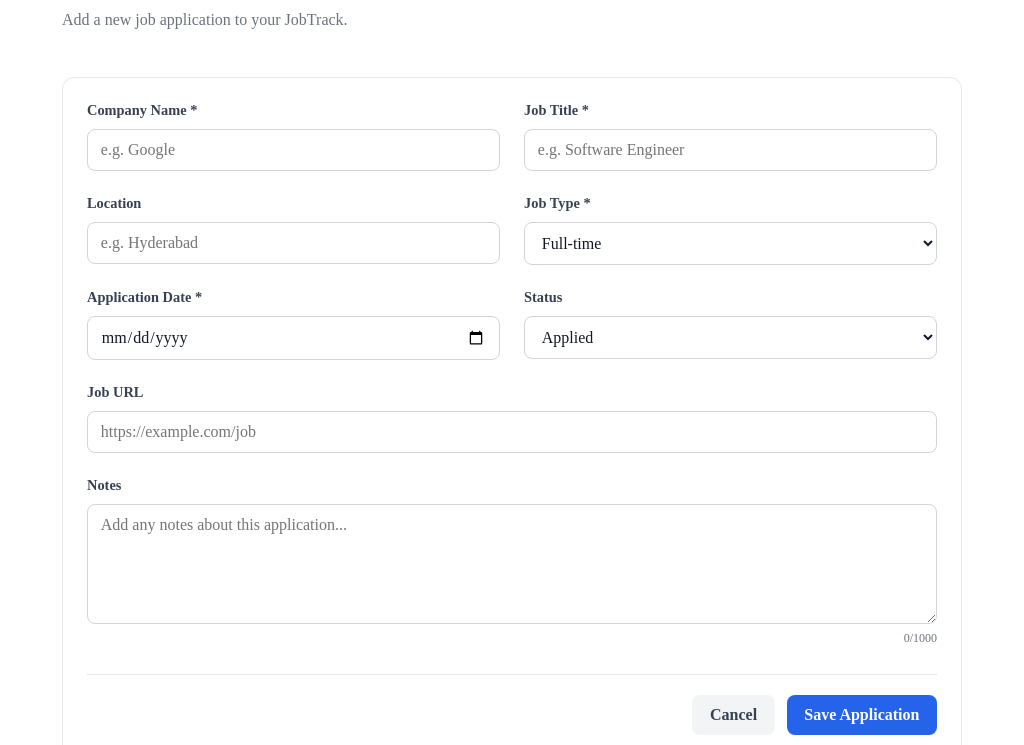
AddApplication page › shows validation errors when required fields are empty
(page scrolled)
Click the button "Save Application".
click(862, 715)  # box [787, 695, 937, 736]
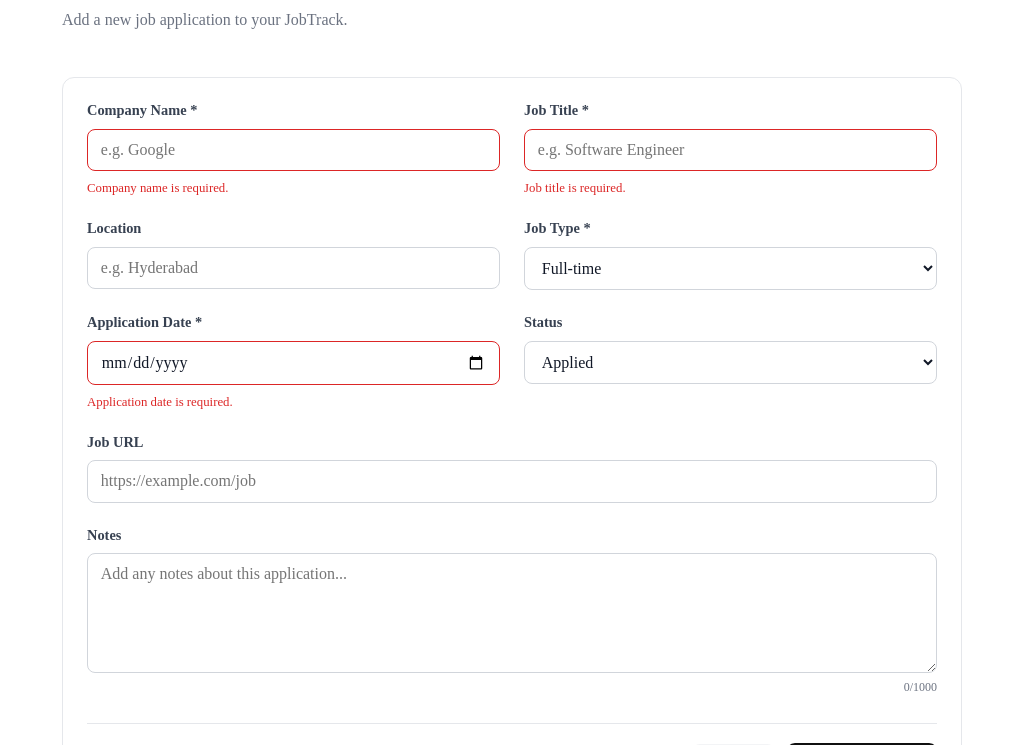
Check: the text "Company name is required." is shown, box [87, 181, 228, 195]
Check: the text "Job title is required." is shown, box [524, 181, 626, 195]
Check: the text "Application date is required." is shown, box [87, 394, 233, 408]
